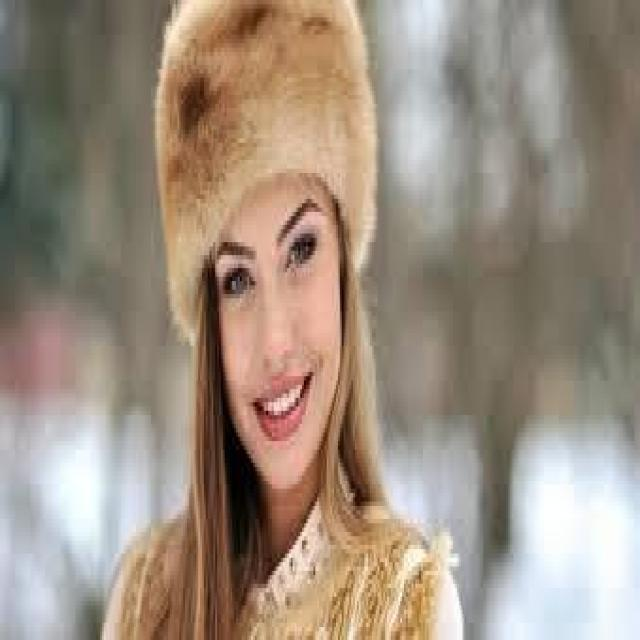person: (97, 0, 464, 636)
